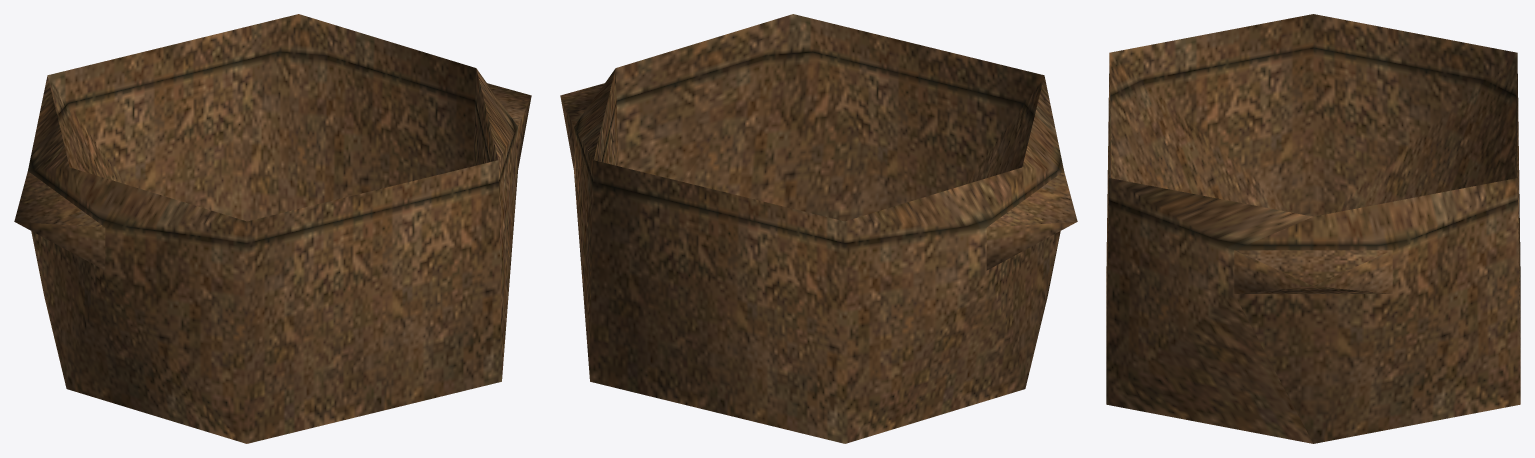
Rendered from edb_con_tato_pot_empty_s01_l2.fbx.
3 views of the same model, side by side, from view 1: azimuth 30°, elevation 25°; view 2: azimuth 150°, elevation 25°; view 3: azimuth 270°, elevation 25° (orthographic). The views are drawn at different scales.
Visible parts, largest first — view 1: mesh_node; view 2: mesh_node; view 3: mesh_node.
Boxes of the visible parts, <box> form: mesh_node: <box>14,14,531,443</box>; mesh_node: <box>560,14,1077,443</box>; mesh_node: <box>1106,14,1520,443</box>.
Bounding box in the file's own units: 0.3588 × 0.1464 × 0.2435.
1 material, 1 textured.
